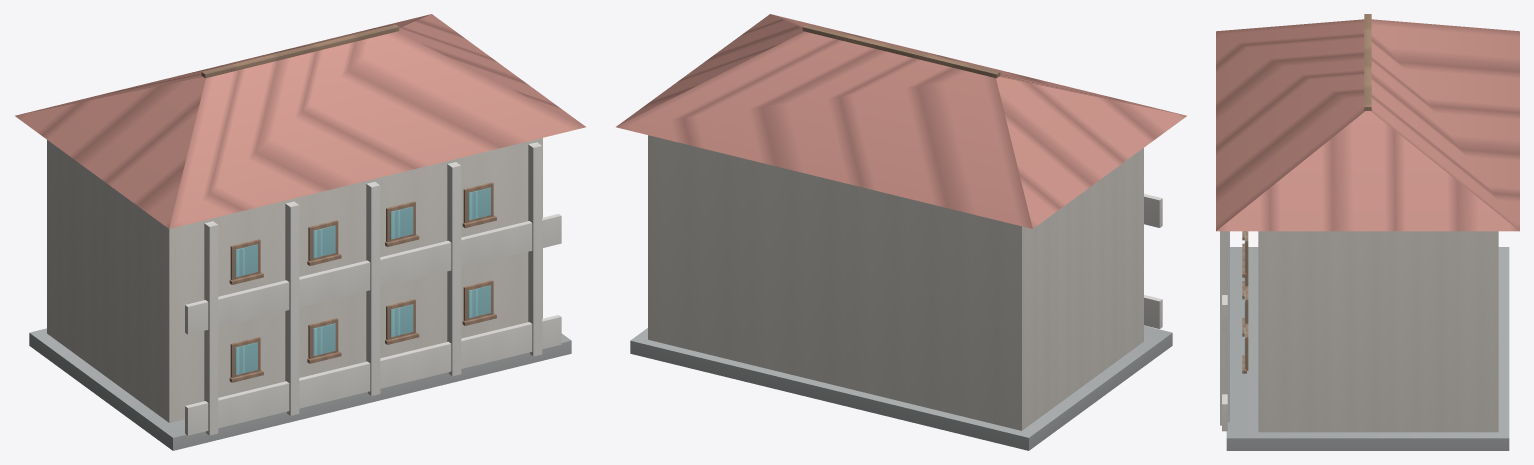
File: school_block.glb
3 renders of one model, left to right at view 1: azimuth 30°, elevation 25°; view 2: azimuth 150°, elevation 25°; view 3: azimuth 270°, elevation 25°, orthographic.
Visible parts, largest first — view 1: school_block; view 2: school_block; view 3: school_block.
Part boxes in pixels (x1,y1,x2,y2): school_block: (15, 14, 585, 450); school_block: (616, 14, 1186, 450); school_block: (1216, 14, 1519, 450).
Bounding box in the file's own units: 13.4 × 9.21 × 8.6.
1 material, 1 textured.
